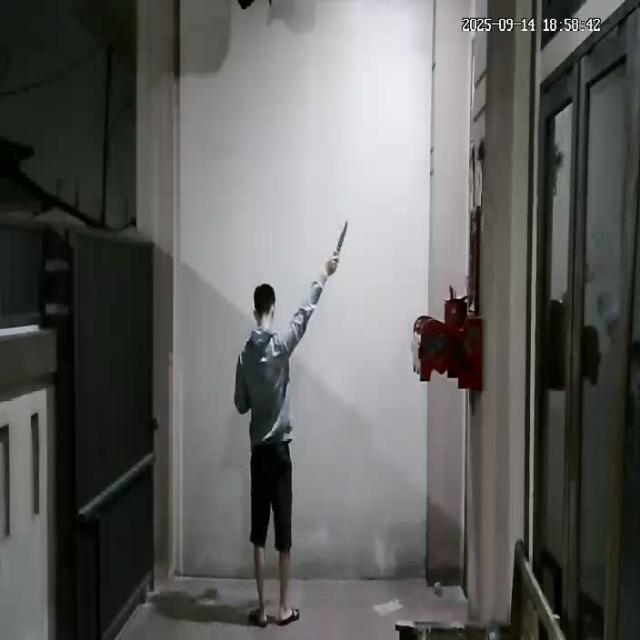senjata_tajam: (335, 218, 349, 258)
